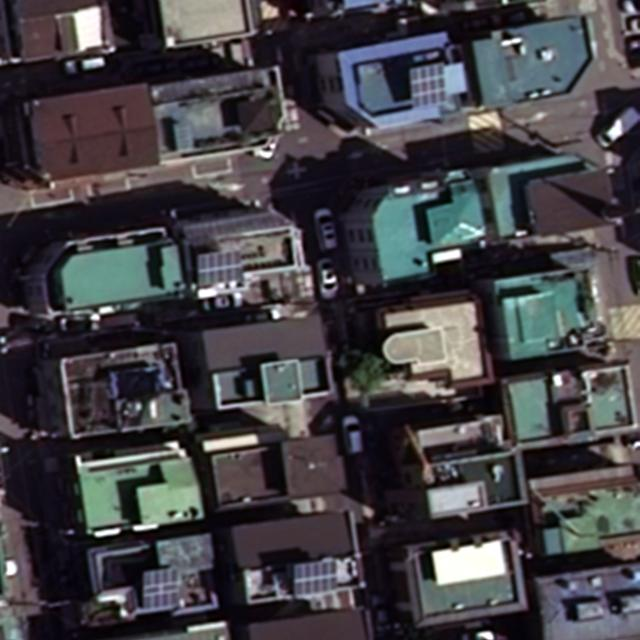panel: (407, 62, 449, 109), (141, 566, 182, 612), (195, 250, 244, 288), (290, 561, 342, 596)
